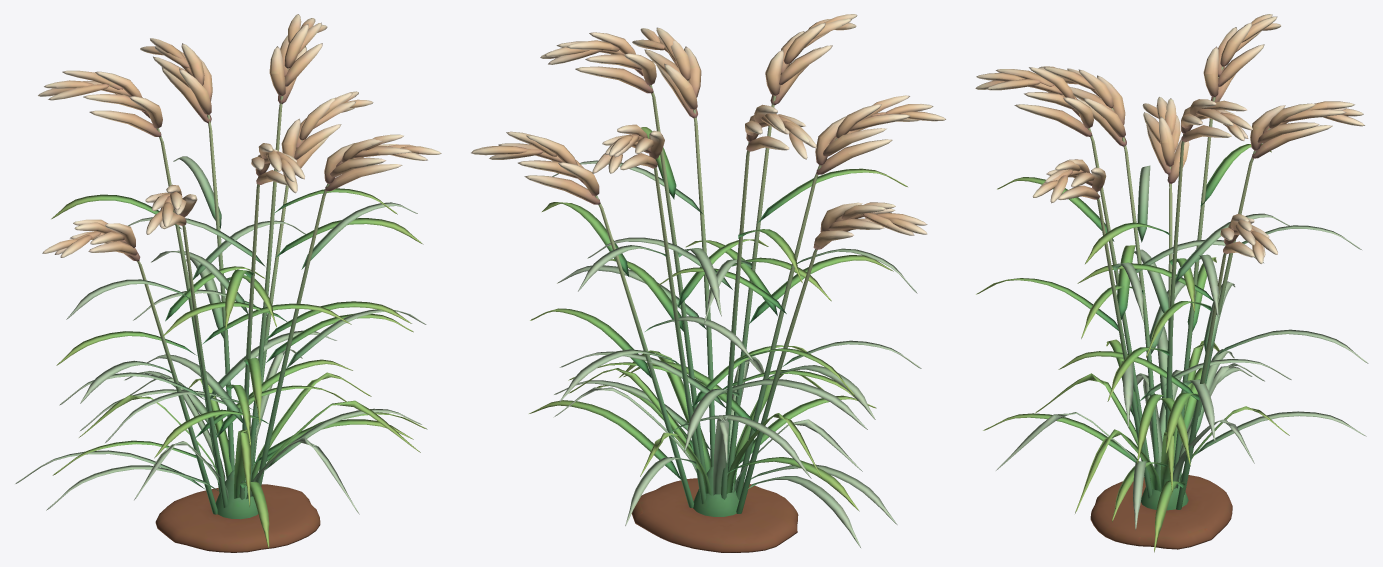
The model's file is reed_medium.fbx.
3 views of the same model, side by side, from view 1: azimuth 30°, elevation 25°; view 2: azimuth 150°, elevation 25°; view 3: azimuth 270°, elevation 25° (orthographic). The views are drawn at different scales.
Visible parts, largest first — view 1: reed_medium; view 2: reed_medium; view 3: reed_medium.
Boxes of the visible parts, x1,y1,x2,y2 form: reed_medium: (15,14,441,552); reed_medium: (471,14,945,552); reed_medium: (975,14,1368,552).
Bounding box in the file's own units: 0.9123 × 1.04 × 0.8129.
1 material, 1 textured.
